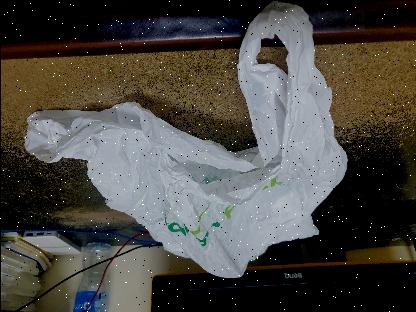Others: (21, 0, 351, 282)
